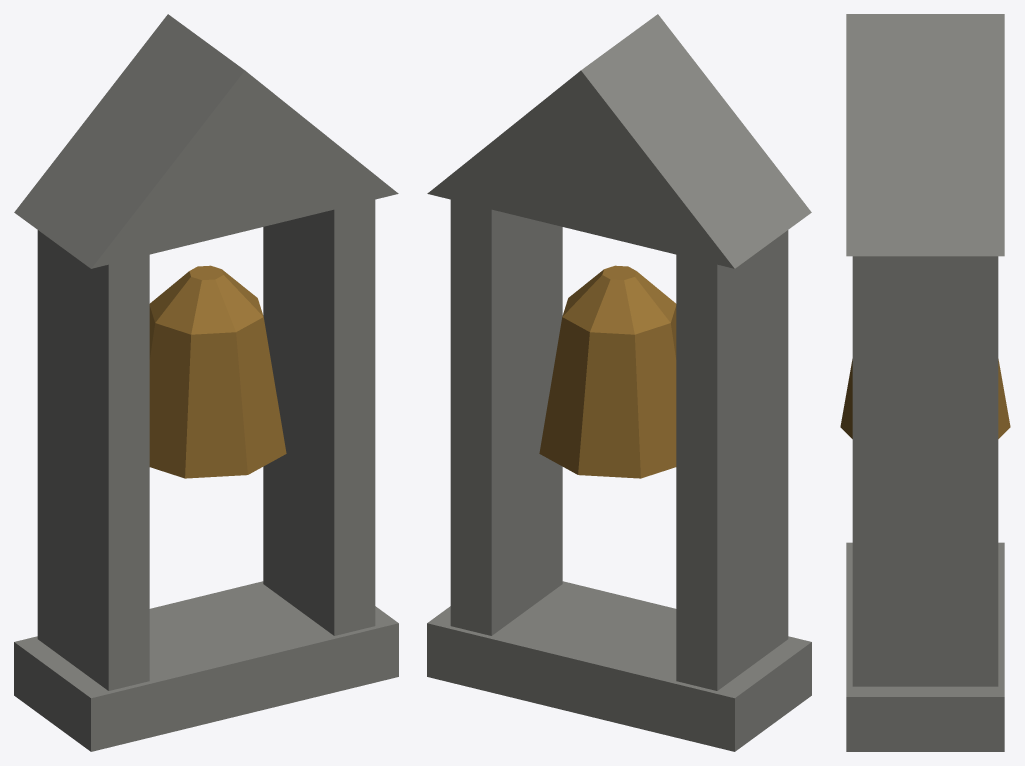
File: Bellcote.fbx
3 views of the same model, side by side, from view 1: azimuth 30°, elevation 25°; view 2: azimuth 150°, elevation 25°; view 3: azimuth 270°, elevation 25° (orthographic). The views are drawn at different scales.
Parts seen in each view (by area): view 1: Kit_Bellcote; view 2: Kit_Bellcote; view 3: Kit_Bellcote.
Part boxes in pixels (x1,y1,x2,y2): Kit_Bellcote: (14, 14, 398, 751); Kit_Bellcote: (427, 14, 811, 751); Kit_Bellcote: (840, 14, 1010, 751).
Bounding box in the file's own units: 0.6 × 1.2 × 0.28.
